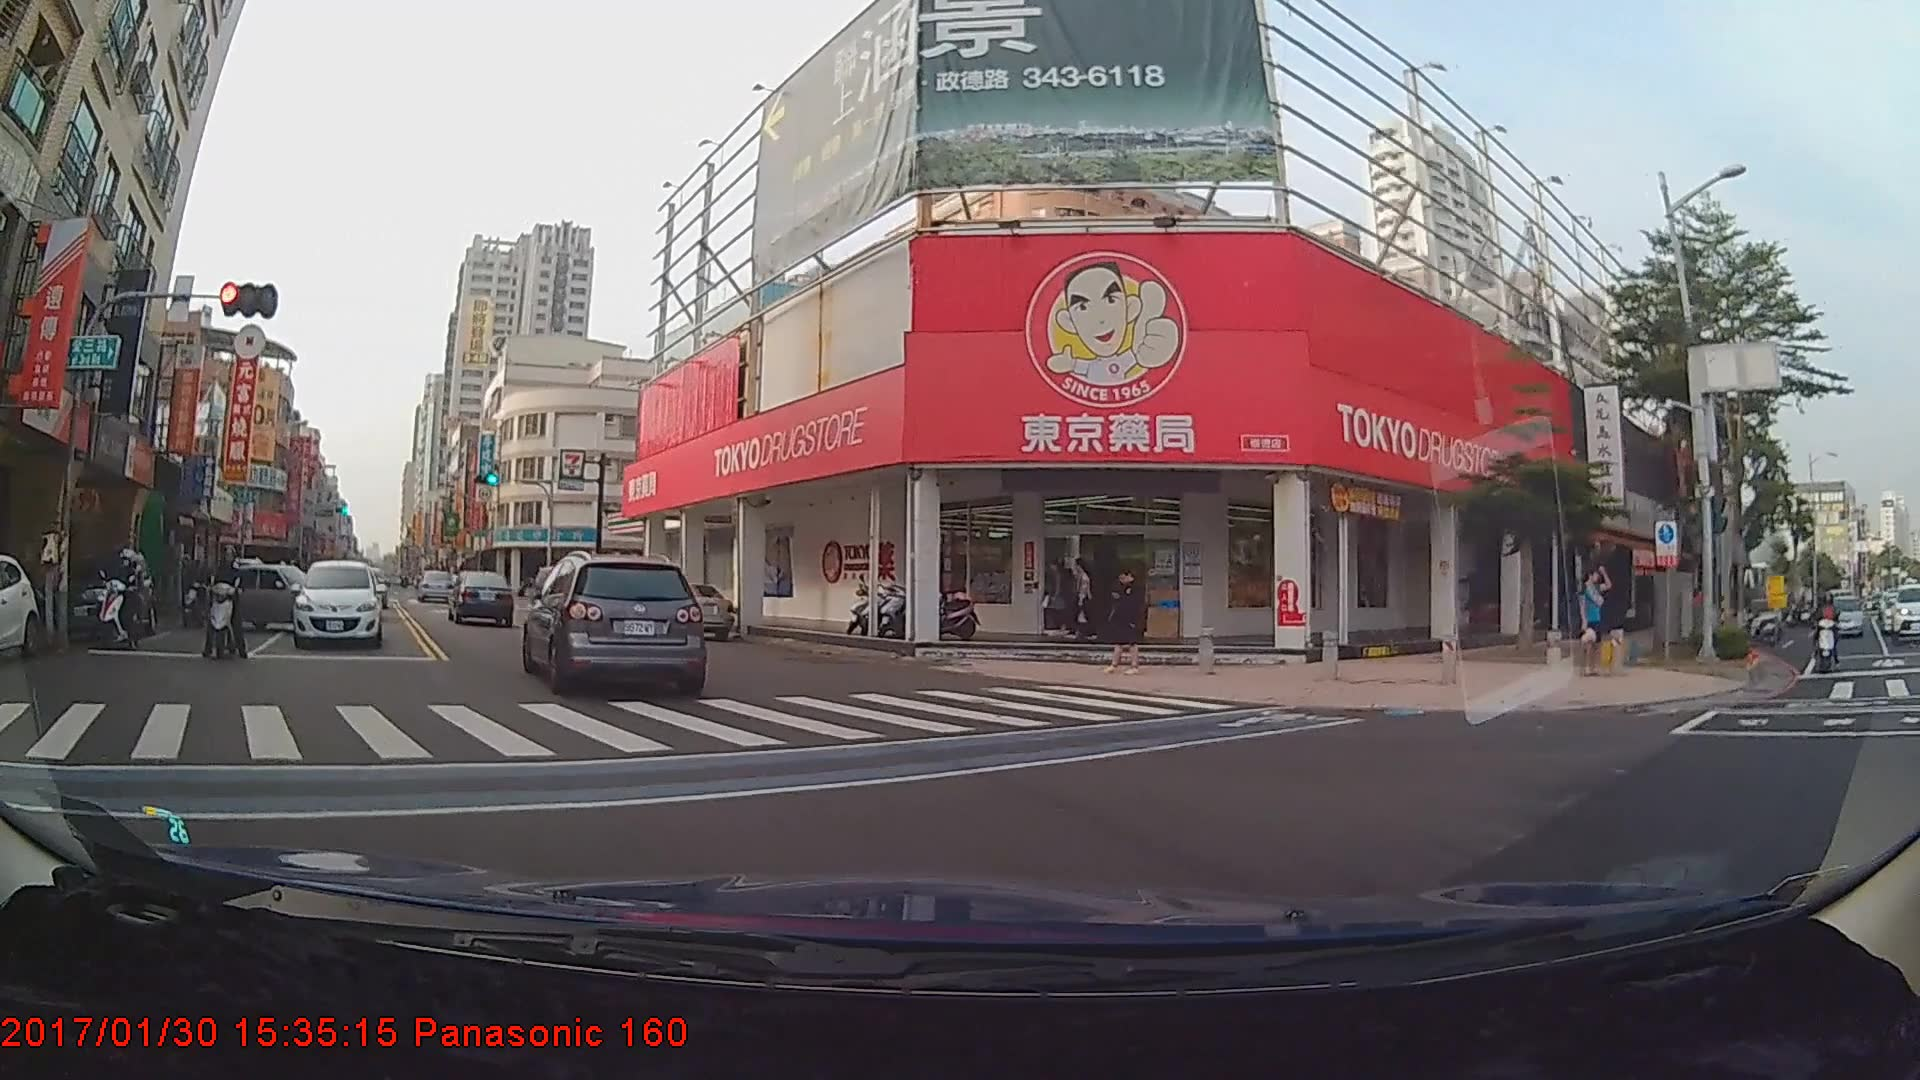pedestrian: (1107, 563, 1151, 678), (1575, 562, 1618, 677), (1044, 556, 1082, 639), (1072, 555, 1098, 641)
rider: (90, 548, 158, 655), (195, 540, 251, 656), (1807, 592, 1845, 671)
vehicle: (522, 554, 706, 694), (37, 542, 156, 639), (291, 558, 384, 648), (217, 562, 329, 630), (635, 580, 733, 641), (449, 568, 513, 627), (1821, 593, 1865, 636)
